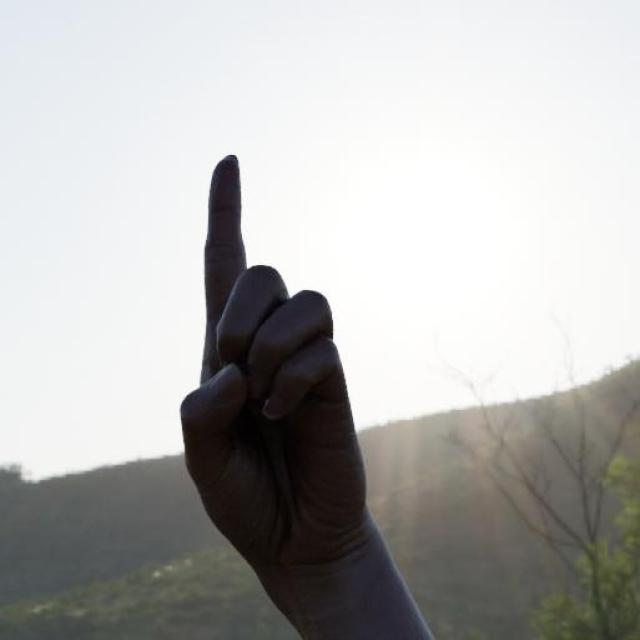D: (179, 146, 386, 556)
